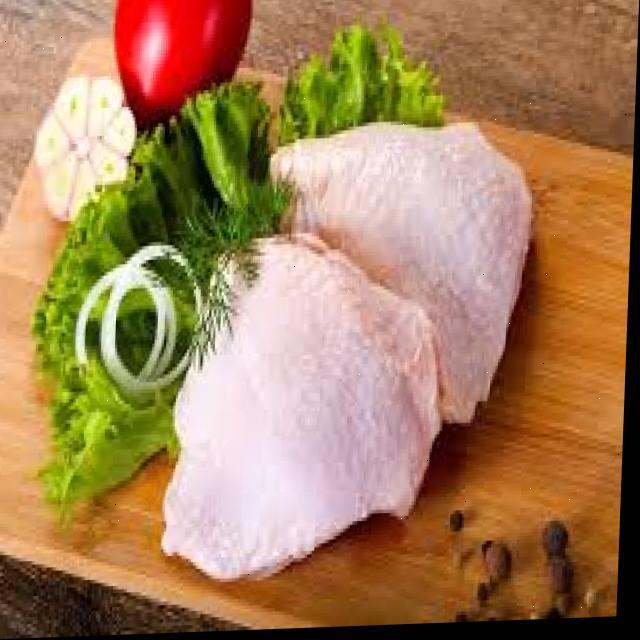thigh: (248, 103, 536, 453), (186, 224, 448, 603)
